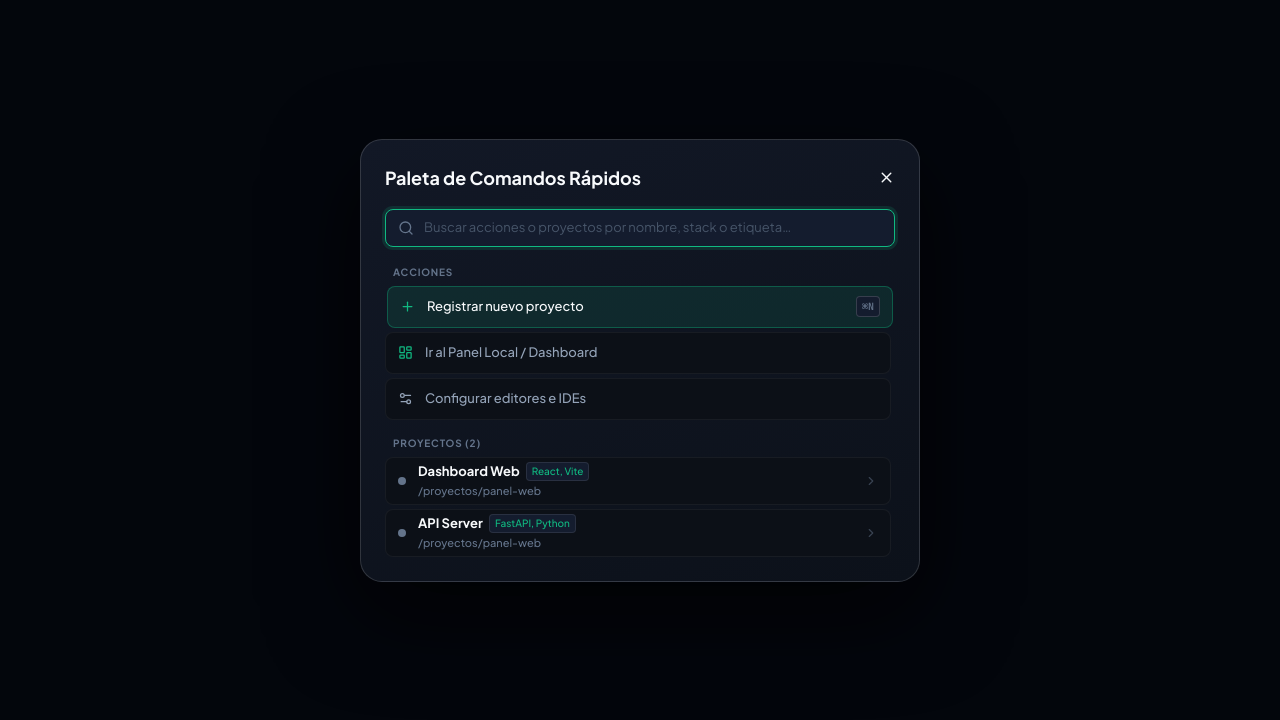
Test case: Palette (⌘K Command Palette) › filtra reactivamente proyectos y acciones al escribir en el buscador
The image size is (1280, 720).
In the field with placeholder "Buscar acciones o proyectos por nombre, stack o etiqueta…": (653, 228) [424,218,882,237], type "FastAPI"
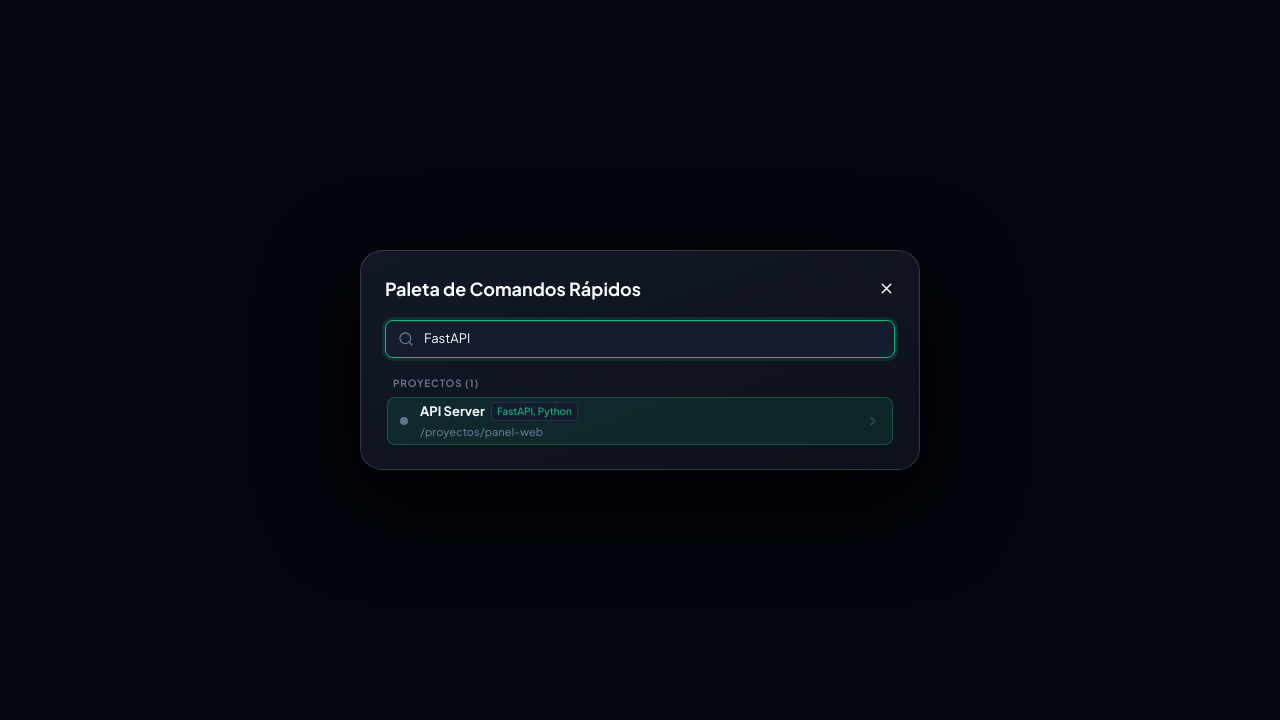
expect the text "API Server" is shown: met, box [420,402,485,422]
expect the button "Dashboard Web" is gone: met
expect the button "Registrar nuevo proyecto" is gone: met
